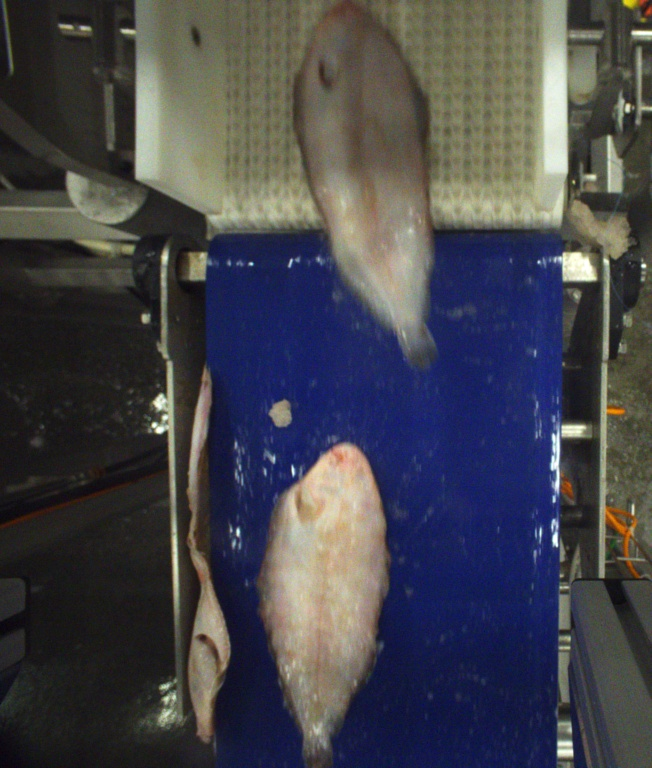SOL: (295, 3, 444, 375)
